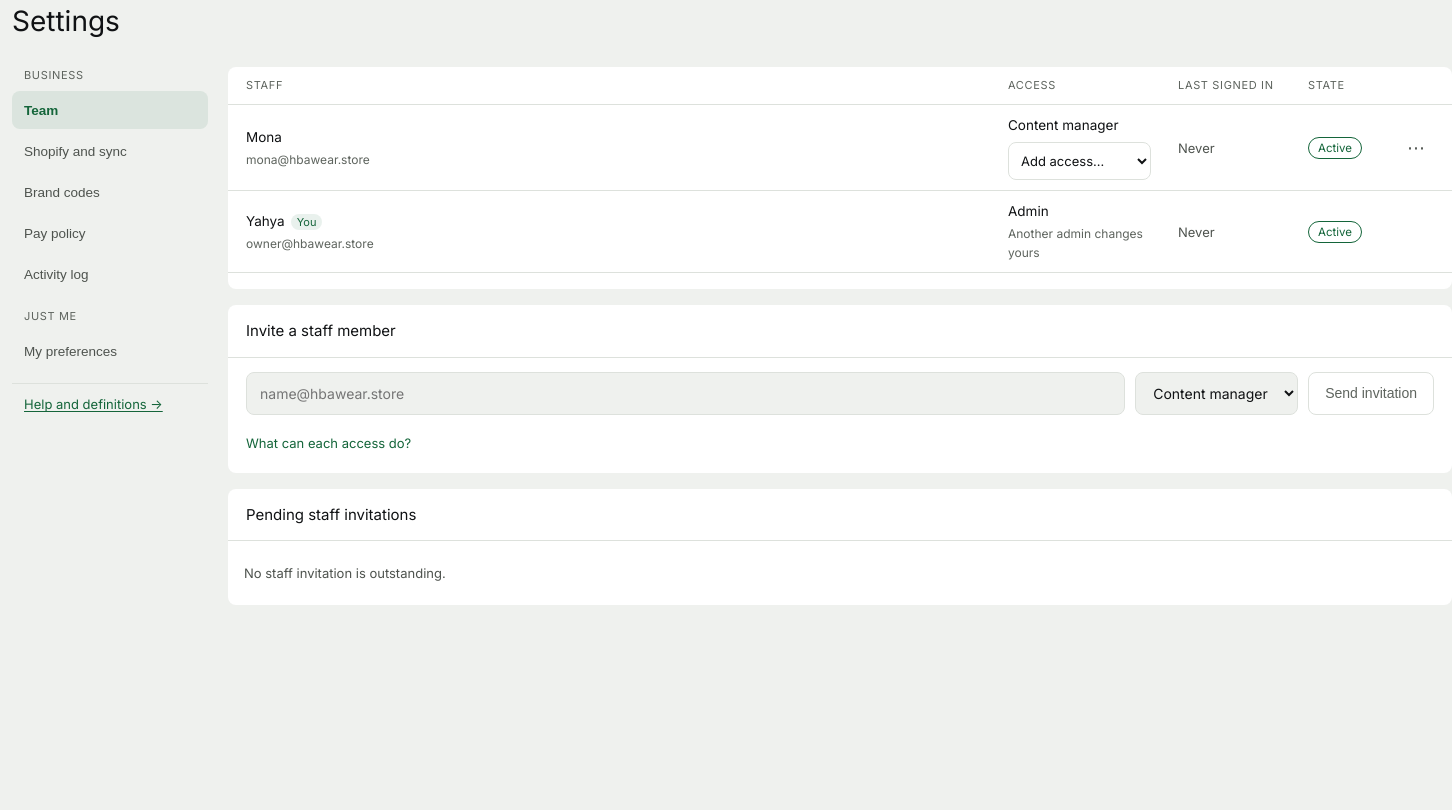
Test: Settings → Team › shows the link once, after an invitation is sent
Type "new@hbawear.store" into the field named "Email" at x=686, y=393, box [246, 372, 1125, 415]
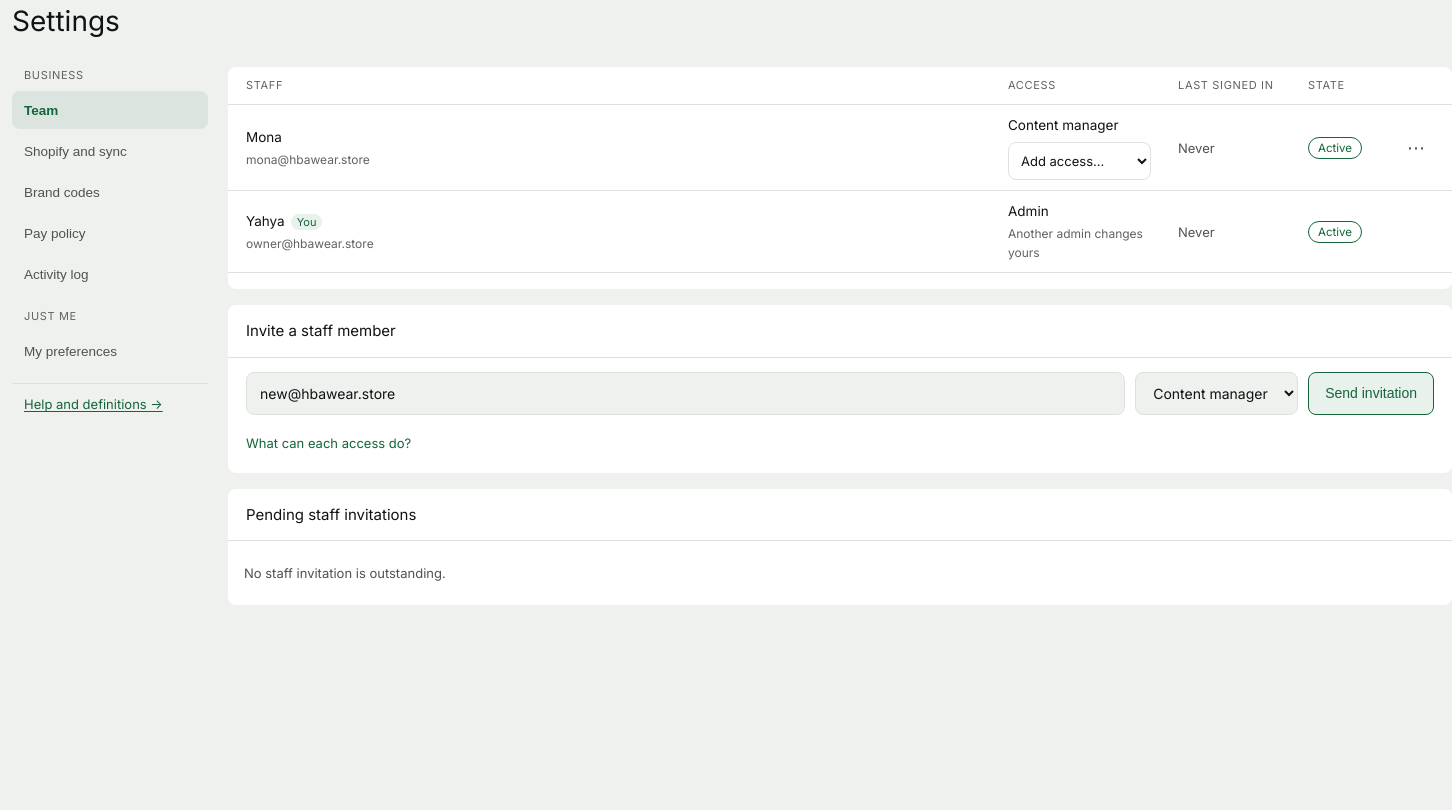
Click the button "Send invitation" at x=1371, y=393, box [1308, 372, 1434, 415]
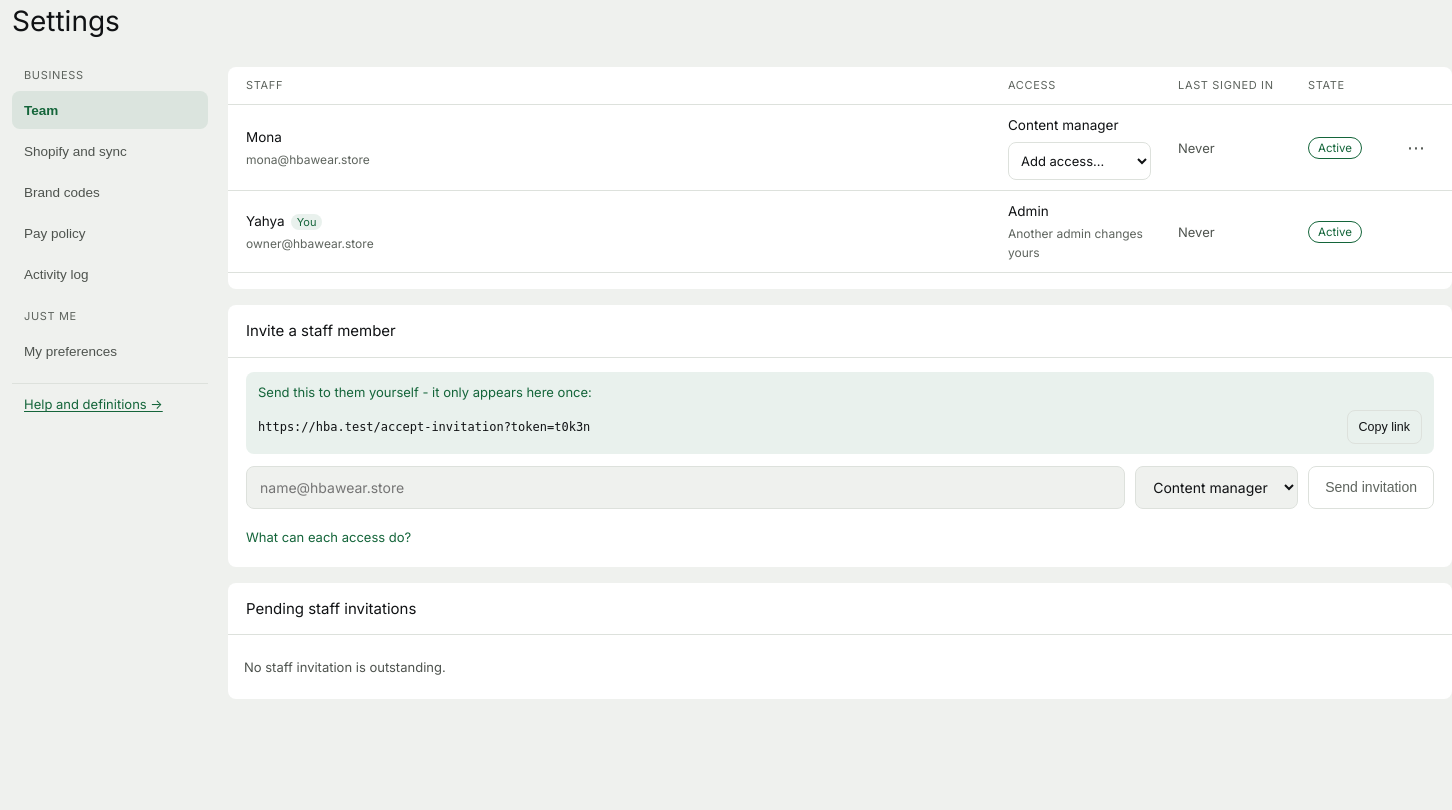
Check: the message shows "https://hba.test/accept-invitation?token=t0k3n", box [258, 420, 590, 434]
Check: the button "Copy link" is shown, box [1347, 410, 1422, 444]
